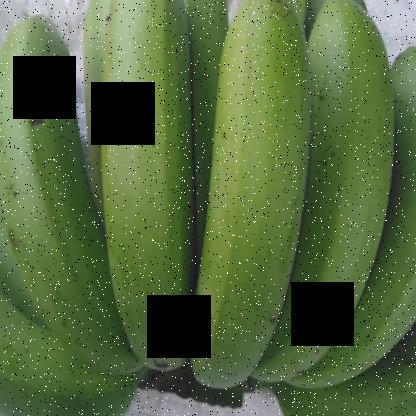freshunripe: (1, 6, 131, 415), (278, 0, 401, 409), (183, 0, 303, 392), (98, 0, 201, 391)
